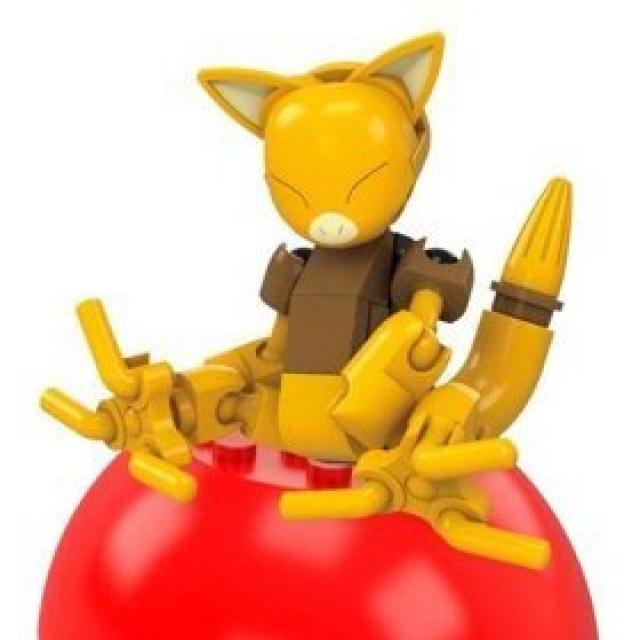Abra: (161, 39, 522, 471)
